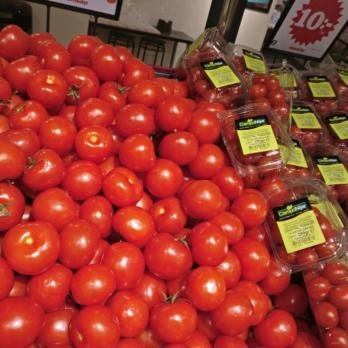Tomato: (2, 24, 240, 333), (188, 19, 241, 97)
